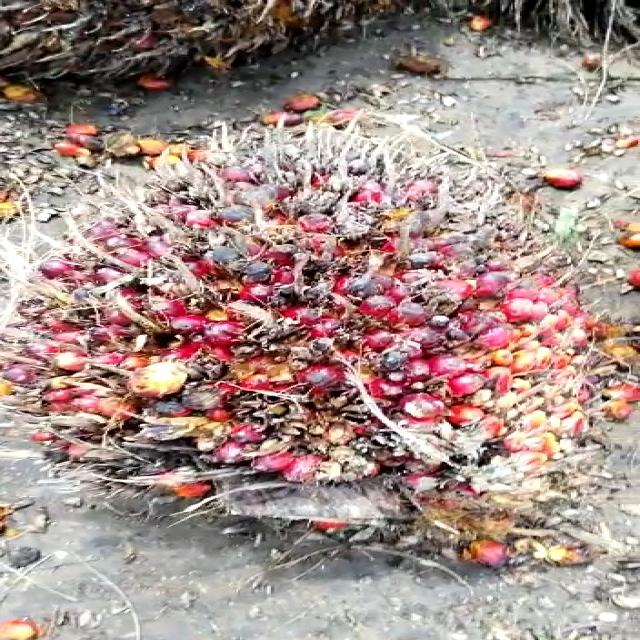palm oil: (19, 130, 640, 592)
